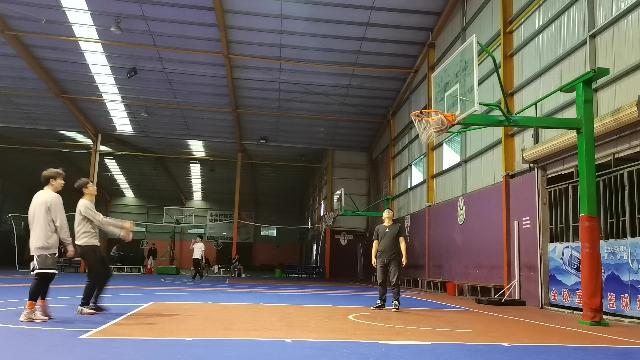basket: (409, 109, 443, 143), (324, 209, 336, 224)
goal: (432, 118, 448, 134)
